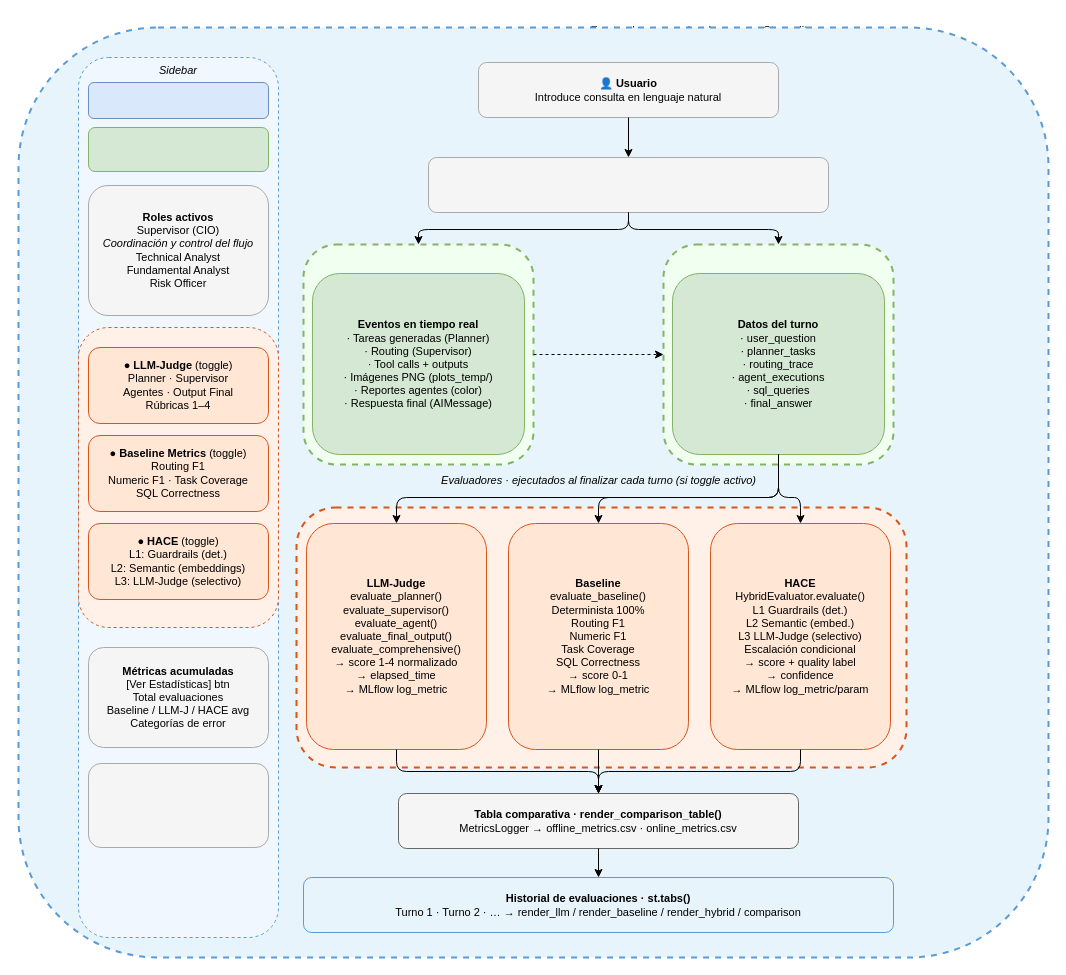
The diagram is 1066 pixels wide and 975 high, and some of its shapes have lost their labels. The shapes that lost their labels are listed below. From the top down, each one's box as (x1, y1, x2, y2) in pixels, then its label:
(88, 82, 268, 118): Comité de Inversión
(88, 126, 268, 172): → Abrir Dashboard st.switch_page()
(428, 156, 828, 212): Entrada · st.chat_input() LangGraph app.stream() → streaming por nodos
(302, 243, 534, 465): Panel de pipeline · st.status()
(662, 243, 894, 465): TraceCollector · captura estructurada
(78, 326, 278, 628): Sistema de auditoría
(88, 762, 268, 848): Debugging [Ver Grafo del Sistema] [Limpiar Sesión]
